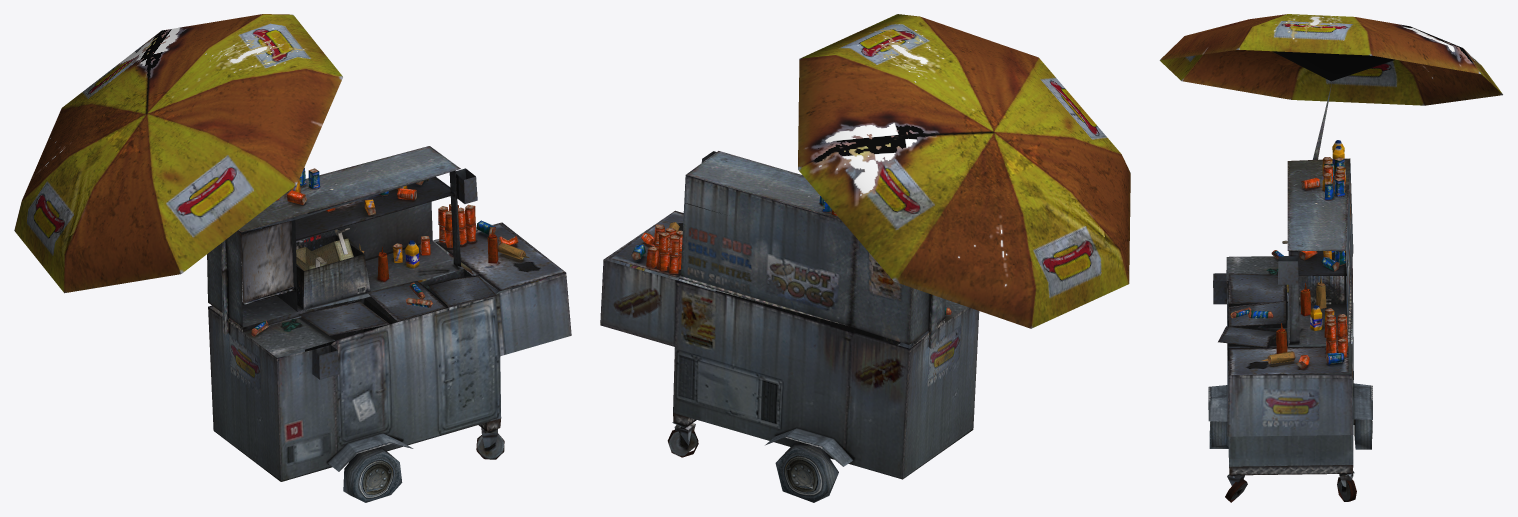
The model's file is wwwunderkammer_Regine_Asset_hotDogStand.glb.
3 views of the same model, side by side, from view 1: azimuth 30°, elevation 25°; view 2: azimuth 150°, elevation 25°; view 3: azimuth 270°, elevation 25° (orthographic). The views are drawn at different scales.
Parts seen in each view (by area): view 1: hotdog_stand, hotdog_stand_parasol, hotdog_stand_bottles, hotddog_stand_glass, hotdog_fryer; view 2: hotdog_stand, hotdog_stand_parasol, hotdog_stand_bottles; view 3: hotdog_stand, hotdog_stand_parasol, hotdog_stand_bottles.
Part boxes in pixels (left/top/right/bottom): hotdog_stand: left=207, top=146, right=571, bottom=502; hotdog_stand_parasol: left=14, top=14, right=342, bottom=293; hotdog_stand_bottles: left=251, top=167, right=529, bottom=336; hotddog_stand_glass: left=241, top=221, right=293, bottom=302; hotdog_fryer: left=296, top=228, right=353, bottom=270; hotdog_stand: left=600, top=151, right=979, bottom=502; hotdog_stand_parasol: left=798, top=14, right=1130, bottom=328; hotdog_stand_bottles: left=631, top=196, right=951, bottom=314; hotdog_stand: left=1208, top=82, right=1372, bottom=502; hotdog_stand_parasol: left=1159, top=14, right=1502, bottom=105; hotdog_stand_bottles: left=1230, top=140, right=1348, bottom=368.
Bounding box in the file's own units: 2.84 × 2.48 × 1.93.
11 materials, 11 textured.
